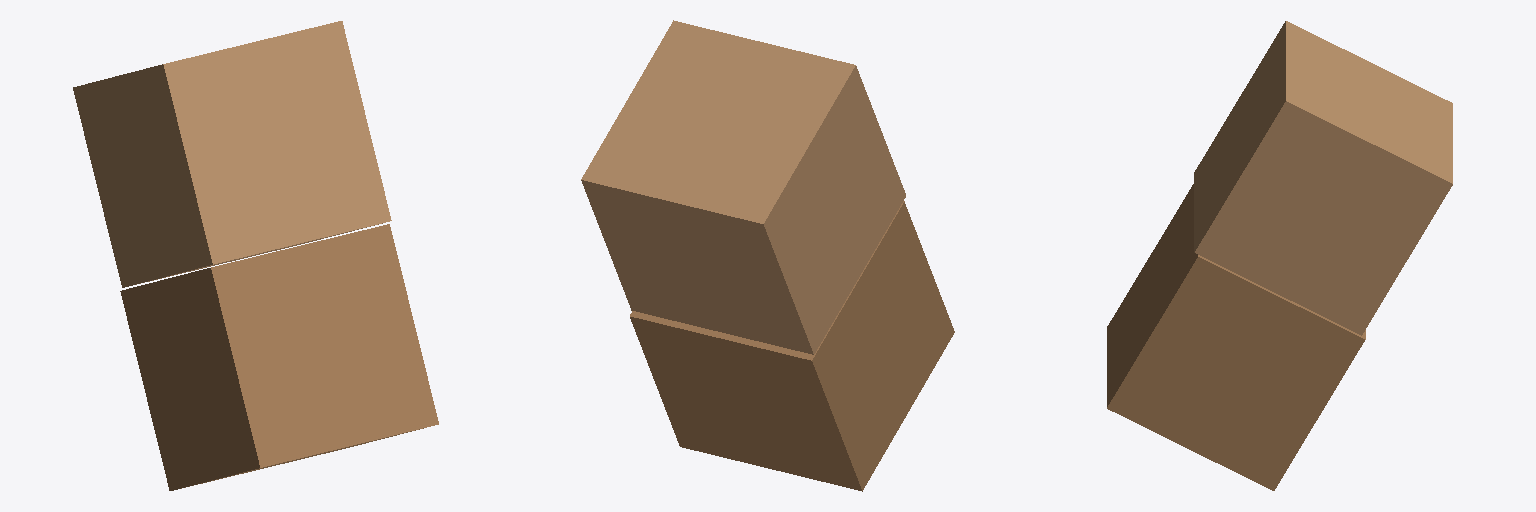
robot.urdf — hand_cart:
<robot name="hand_cart">
  <material name="Box_color">
    <color rgba="0.678 0.529 0.384 1.0"/>
  </material>
  <material name="Box_color2">
    <color rgba="0.75 0.6 0.45 1.0"/>
  </material>
  <material name="Green">
    <color rgba="0 1 0 1.0"/>
  </material>
  <material name="Silver">
    <color rgba="0.75 0.75 0.75 1.0"/>
  </material>
    <link name="base">
        <inertial>
            <origin xyz="0 0 0"/>
            <mass value="1"/>
            <inertia ixx="0.0267" ixy="0" ixz="0" iyy="0.0267" iyz="0" izz="0.0267"/>
        </inertial>
	<visual>
            <origin xyz="0 0 0.03" rpy="-0.5 0 0"/>
            <geometry>
                <mesh filename="meshes/hand_truck.obj" scale="0.01 0.01 0.01"/>
            </geometry>
            <material name="Silver"/>
        </visual>
        <visual>
            <origin xyz="0 -0.095 0.235" rpy="-0.5 0 0"/>
            <geometry>
                <box size="0.25 0.25 0.25"/>
            </geometry>
            <material name="Box_color"/>
        </visual> 

        <visual>
            <origin xyz="0 0.02 0.46" rpy="-0.5 0 0"/>
            <geometry>
                <box size="0.25 0.25 0.25"/>
            </geometry>
            <material name="Box_color2"/>
        </visual> 
    </link>
</robot>

--- What the picture shows (computed from the rendered views, not written in the file) ---
The picture shows the robot from 3 angles, left to right: view 1: azimuth 30°, elevation 25°; view 2: azimuth 150°, elevation 25°; view 3: azimuth 270°, elevation 25°; orthographic projection.
Model hand_cart with 1 links and 0 joints (none), rooted at base, posed every joint at zero.
Links seen in each view (by area): view 1: base; view 2: base; view 3: base.
Link boxes in pixels (box(x1,y1,x2,y2)): base: box(73, 21, 438, 490); base: box(581, 20, 954, 491); base: box(1107, 21, 1452, 490).
Size in the robot's own frame: 0.25 by 0.4543 by 0.5643 metres.
Meshes: 1 distinct files referenced, 0 mesh visuals loaded (none loaded); not drawn: 1 (reference not matched to a file when rendering).
